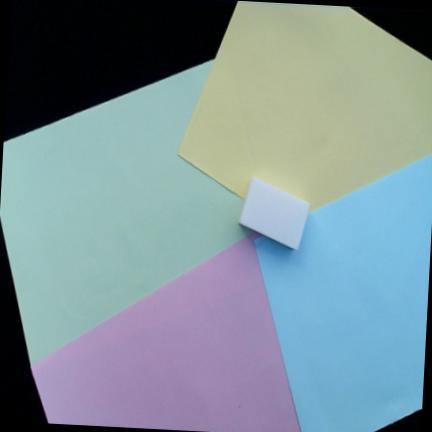Paralelepipedo: (237, 174, 311, 251)
